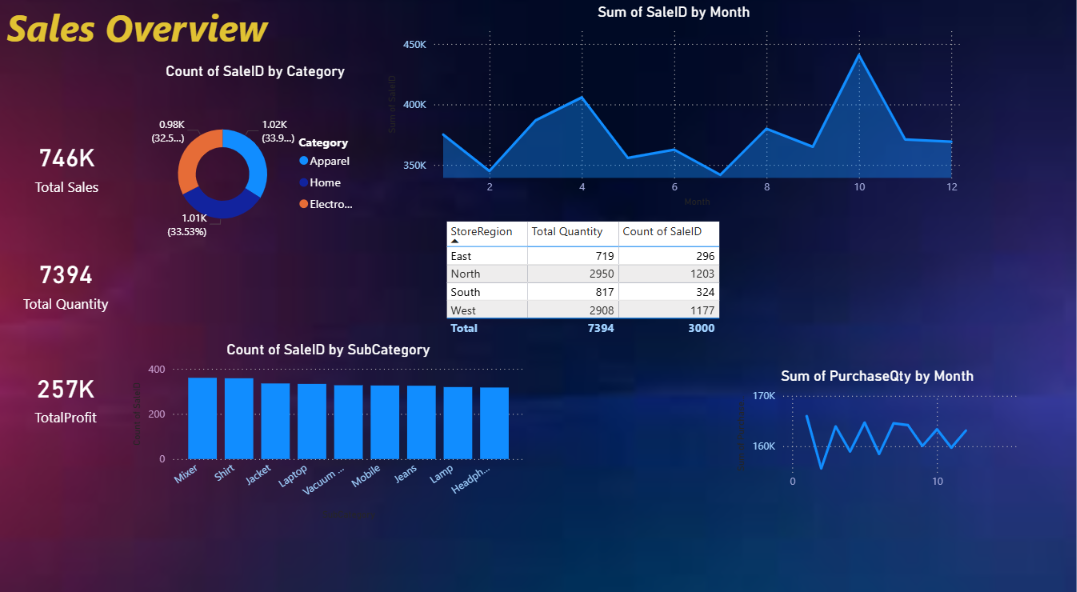

This screenshot's page, from the dashboard's own definition file:
{"tool":"powerbi","page":{"name":"Sales Overview","canvas":[1280,720],"ordinal":0},"visuals":[{"type":"card","fields":{"Values":["Measures (2).Total Sales"]},"box":[31.4,151.2,115.1,105.8],"z":0},{"type":"donutChart","fields":{"Category":["Product_Dim.Category"],"Y":["CountNonNull(Sales_Fact.SaleID)"]},"box":[176.7,83.7,262.8,240.7],"z":1000},{"type":"areaChart","fields":{"Category":["Calendar_Dim.Month"],"Y":["Sum(Sales_Fact.SaleID)"]},"box":[457,15.1,675.6,241.9],"z":2000},{"type":"columnChart","fields":{"Category":["Product_Dim.SubCategory"],"Y":["CountNonNull(Sales_Fact.SaleID)"]},"box":[160.5,407,465.1,214],"z":3000},{"type":"tableEx","fields":{"Values":["Store_Dim.StoreRegion","Measures (2).Total Quantity","CountNonNull(Sales_Fact.SaleID)"]},"box":[524.4,264,338.4,151.2],"z":4000},{"type":"card","fields":{"Values":["Measures (2).Total Quantity"]},"box":[30.2,282.6,115.1,114],"z":5000},{"type":"card","fields":{"Values":["Measures (2).TotalProfit"]},"box":[30.2,415.1,115.1,114],"z":6000},{"type":"textbox","box":[14,8.1,324.4,82.6],"z":7000},{"type":"lineChart","fields":{"Category":["Calendar_Dim.Month"],"Y":["Sum(Inventory_Fact.PurchaseQty)"]},"box":[862.8,438.4,337.2,151.2],"z":8000}]}

Visuals, with their boxes in screenshot pixels (x1, y1, x2, y2), scaled from the page's 1280x720 canvas onto the 1077x592 screenshot:
card - Measures (2).Total Sales: [26,124,123,211]
donutChart - Product_Dim.Category x CountNonNull(Sales_Fact.SaleID): [149,69,370,267]
areaChart - Calendar_Dim.Month x Sum(Sales_Fact.SaleID): [385,12,953,211]
columnChart - Product_Dim.SubCategory x CountNonNull(Sales_Fact.SaleID): [135,335,526,511]
tableEx - Store_Dim.StoreRegion x Measures (2).Total Quantity: [441,217,726,341]
card - Measures (2).Total Quantity: [25,232,122,326]
card - Measures (2).TotalProfit: [25,341,122,435]
textbox: [12,7,285,75]
lineChart - Calendar_Dim.Month x Sum(Inventory_Fact.PurchaseQty): [726,360,1010,485]
